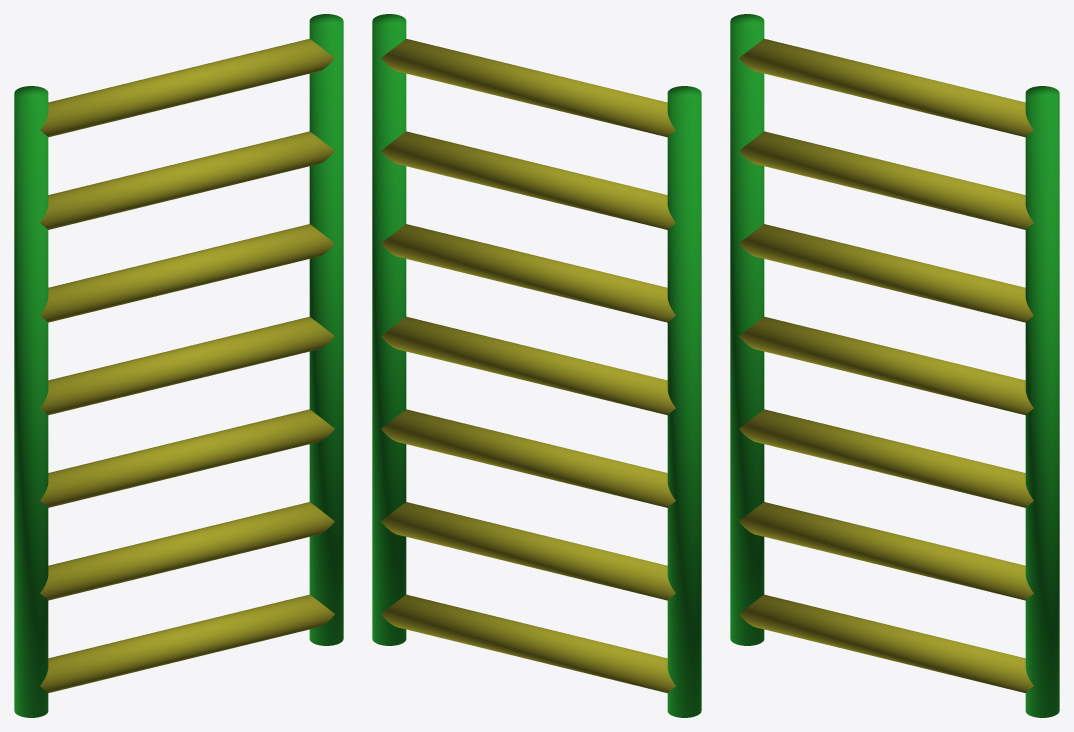
File: ladder.glb
The picture shows the model from 3 angles, left to right: view 1: azimuth 30°, elevation 25°; view 2: azimuth 150°, elevation 25°; view 3: azimuth 330°, elevation 25°; orthographic projection.
Parts seen in each view (by area): view 1: Cylinder; view 2: Cylinder; view 3: Cylinder.
Boxes of the visible parts, bbox=[...] form: Cylinder: bbox=[14, 14, 343, 717]; Cylinder: bbox=[372, 14, 701, 717]; Cylinder: bbox=[730, 14, 1059, 717].
Size of the model in its own units: 2.2 by 4 by 0.2.
